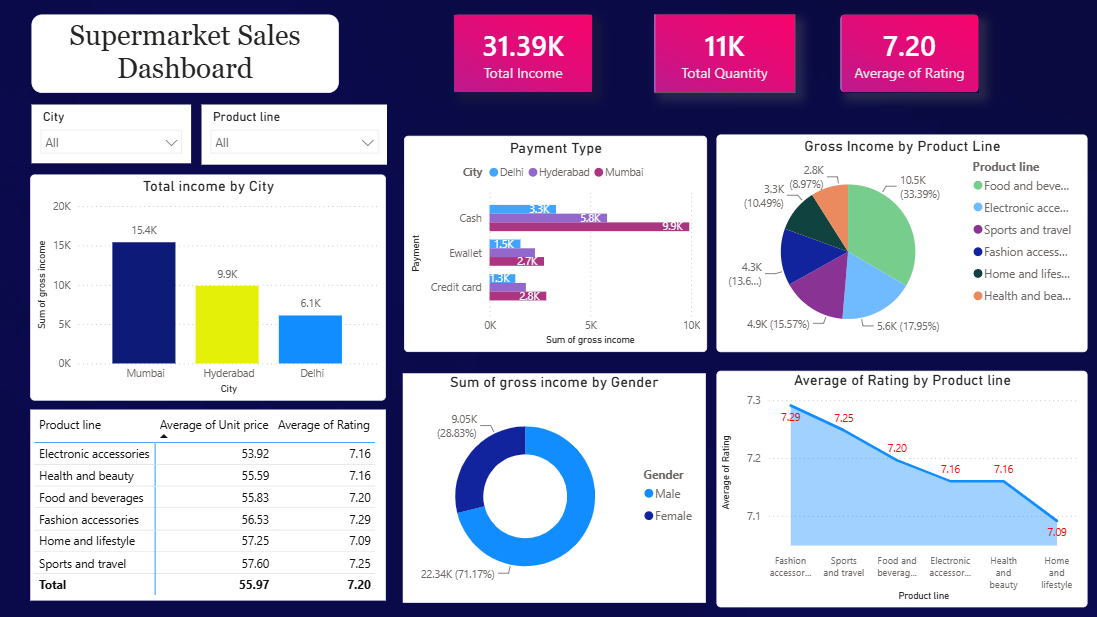

Layout of this report page (visuals, bound fields, positions):
{"tool":"powerbi","page":{"name":"Page 1","canvas":[1280,720],"ordinal":0},"visuals":[{"type":"textbox","box":[42.2,25.3,351.1,89.3],"z":0},{"type":"cardVisual","fields":{"Data":["Sum(Sheet1.gross income)"]},"box":[526,25.3,158,89.3],"z":1000},{"type":"cardVisual","fields":{"Data":["Sum(Sheet1.Quantity)"]},"box":[754,25.3,161.7,89.3],"z":2000},{"type":"cardVisual","fields":{"Data":["Avg(Sheet1.Rating)"]},"box":[967.6,25.3,158,89.3],"z":3000},{"type":"columnChart","title":"Total  income by City","fields":{"Category":["Sheet1.City"],"Y":["Sum(Sheet1.gross income)"]},"box":[41.2,208.8,406.2,258.8],"z":4000},{"type":"clusteredBarChart","title":"Payment Type","fields":{"Y":["Sum(Sheet1.gross income)"],"Category":["Sheet1.Payment"],"Series":["Sheet1.City"]},"box":[468.8,163.8,346.2,247.5],"z":5000},{"type":"areaChart","fields":{"Category":["Sheet1.Product line"],"Y":["Avg(Sheet1.Rating)"]},"box":[826.2,432.5,423.8,270],"z":6000},{"type":"pieChart","title":"Gross Income by Product Line","fields":{"Category":["Sheet1.Product line"],"Y":["Sum(Sheet1.gross income)"]},"box":[826.2,162.5,423.8,248.8],"z":7000},{"type":"donutChart","fields":{"Y":["Sum(Sheet1.gross income)"],"Category":["Sheet1.Gender"]},"box":[467.5,436.2,346.2,262.5],"z":8000},{"type":"pivotTable","fields":{"Rows":["Sheet1.Product line"],"Values":["Avg(Sheet1.Unit price)","Avg(Sheet1.Rating)"]},"box":[41.2,477.5,406.2,218.8],"z":9000},{"type":"slicer","fields":{"Values":["Sheet1.City"]},"box":[42.2,129.1,182.2,67.6],"z":10000},{"type":"slicer","fields":{"Values":["Sheet1.Product line"]},"box":[236.5,127.9,212.3,68.8],"z":11000}]}

Visuals, with their boxes in screenshot pixels (x1, y1, x2, y2), scaled from the page's 1280x720 canvas onto the 1097x617 screenshot:
textbox: box(36, 22, 337, 98)
cardVisual - Sum(Sheet1.gross income): box(451, 22, 586, 98)
cardVisual - Sum(Sheet1.Quantity): box(646, 22, 785, 98)
cardVisual - Avg(Sheet1.Rating): box(829, 22, 965, 98)
"Total  income by City" columnChart: box(35, 179, 383, 401)
"Payment Type" clusteredBarChart: box(402, 140, 698, 352)
areaChart - Sheet1.Product line x Avg(Sheet1.Rating): box(708, 371, 1071, 602)
"Gross Income by Product Line" pieChart: box(708, 139, 1071, 352)
donutChart - Sum(Sheet1.gross income) x Sheet1.Gender: box(401, 374, 697, 599)
pivotTable - Sheet1.Product line x Avg(Sheet1.Unit price): box(35, 409, 383, 597)
slicer - Sheet1.City: box(36, 111, 192, 169)
slicer - Sheet1.Product line: box(203, 110, 385, 169)
